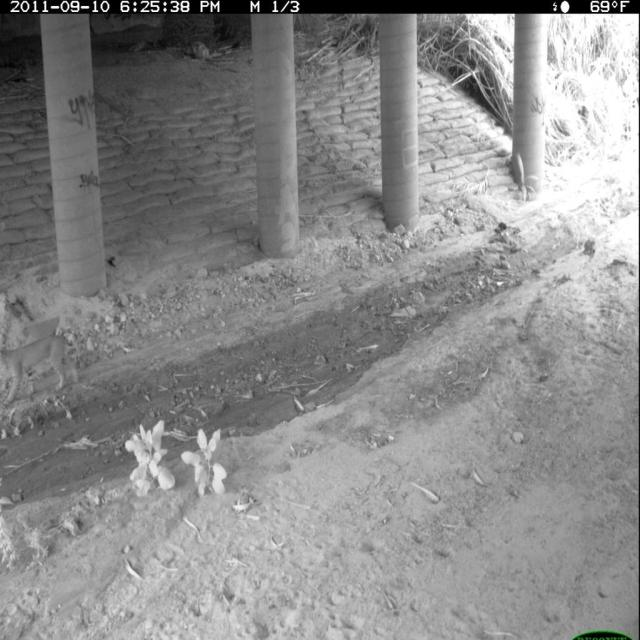bobcat: (1, 329, 83, 411)
